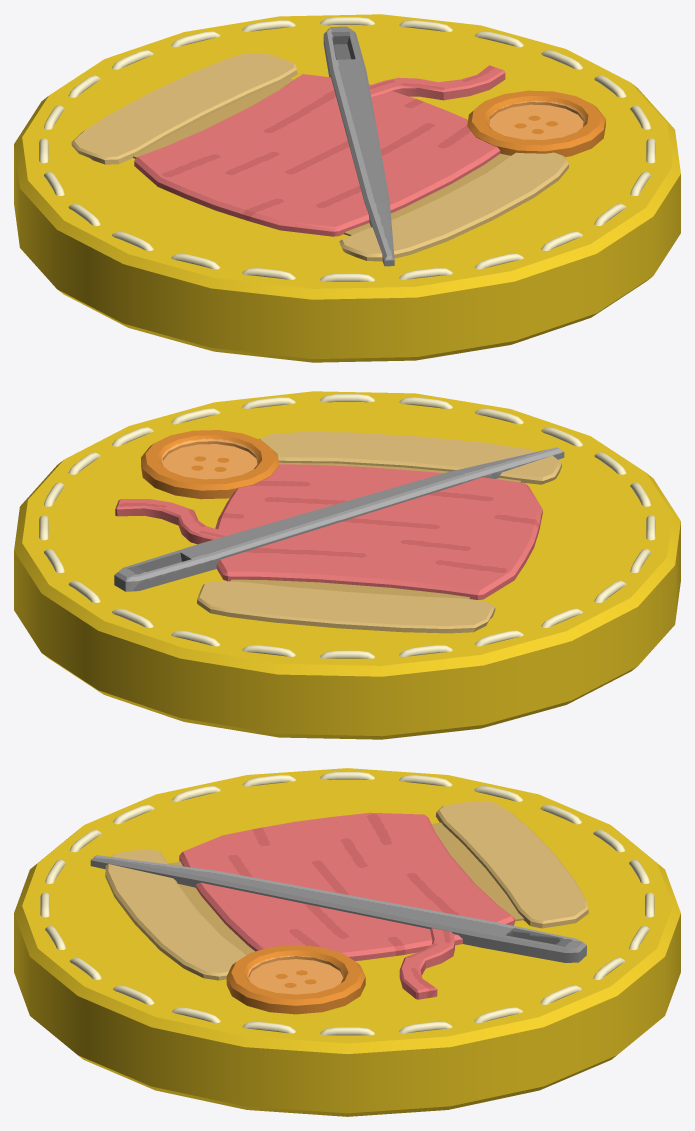
File: patchModelBobbinFirst.gltf
3 views of the same model, one above another, from view 1: azimuth 30°, elevation 25°; view 2: azimuth 150°, elevation 25°; view 3: azimuth 270°, elevation 25° (orthographic).
Visible parts, largest first — view 1: wappen_plane6, patchModelBobbinFirst, wappen_TrailMode6; view 2: wappen_plane6, patchModelBobbinFirst, wappen_TrailMode6; view 3: wappen_plane6, patchModelBobbinFirst, wappen_TrailMode6.
Part boxes in pixels (left/top/right/bottom): wappen_plane6: left=14, top=14, right=680, bottom=362; patchModelBobbinFirst: left=71, top=26, right=605, bottom=266; wappen_TrailMode6: left=39, top=17, right=655, bottom=281; wappen_plane6: left=14, top=391, right=680, bottom=739; patchModelBobbinFirst: left=114, top=430, right=564, bottom=633; wappen_TrailMode6: left=39, top=394, right=655, bottom=658; wappen_plane6: left=14, top=768, right=680, bottom=1116; patchModelBobbinFirst: left=90, top=801, right=588, bottom=1014; wappen_TrailMode6: left=40, top=771, right=654, bottom=1035.
Size of the model in its own units: 1.66 by 0.2354 by 1.65.
Materials: 1 (1 with a texture image).
